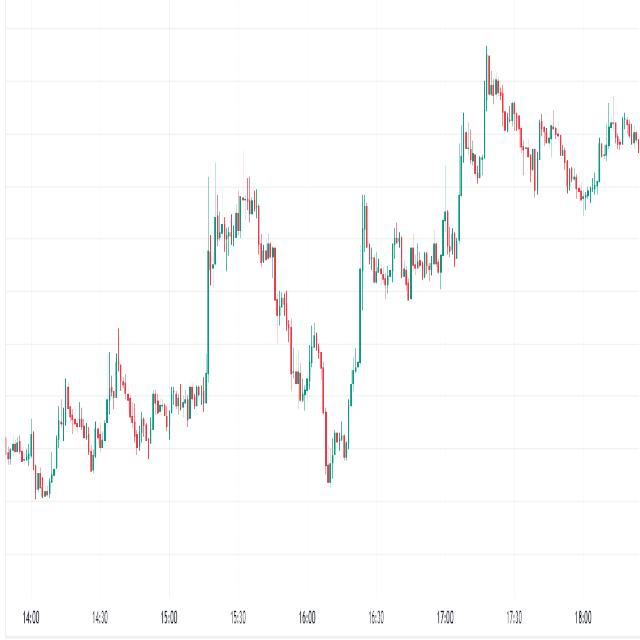Head-Shoulders: (454, 36, 588, 248), (202, 141, 297, 417)
